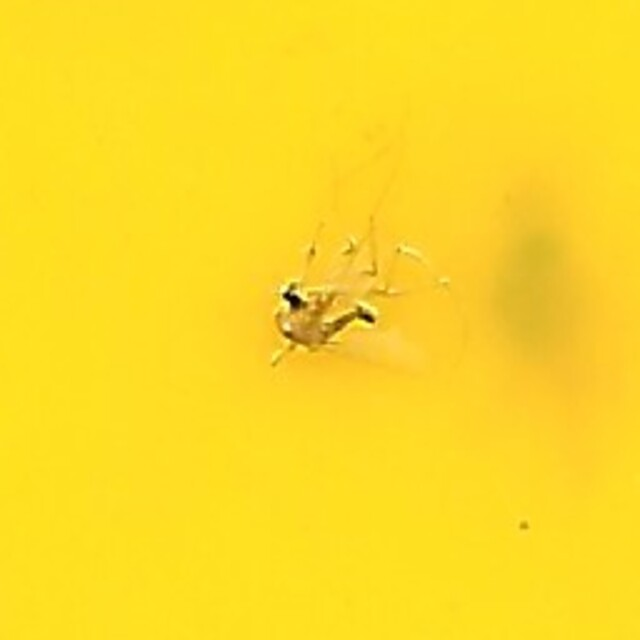Nematocera: (250, 271, 390, 369)
